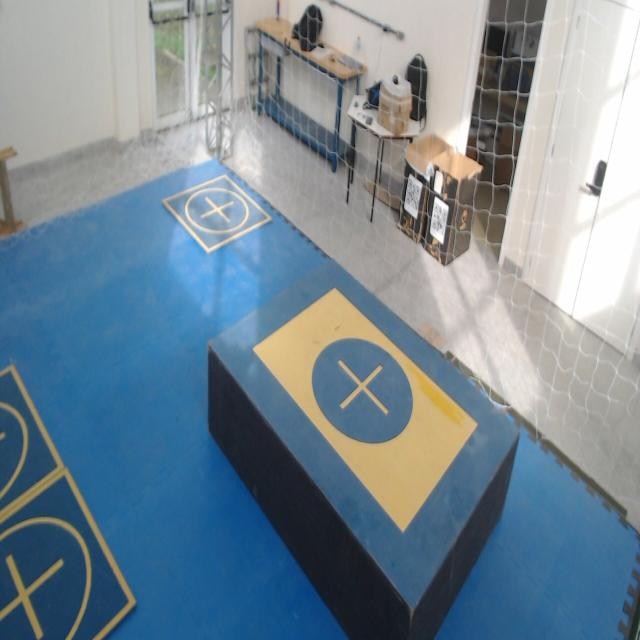base_inicio: (250, 288, 479, 533)
base_pouso: (0, 467, 137, 639), (0, 364, 65, 517), (161, 174, 273, 254)
